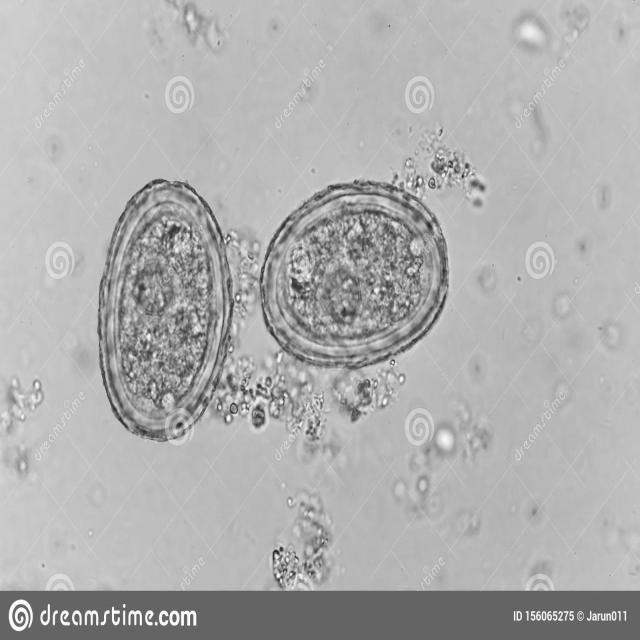Ascaris Lumbricoides: (89, 176, 237, 447), (255, 180, 453, 372)
